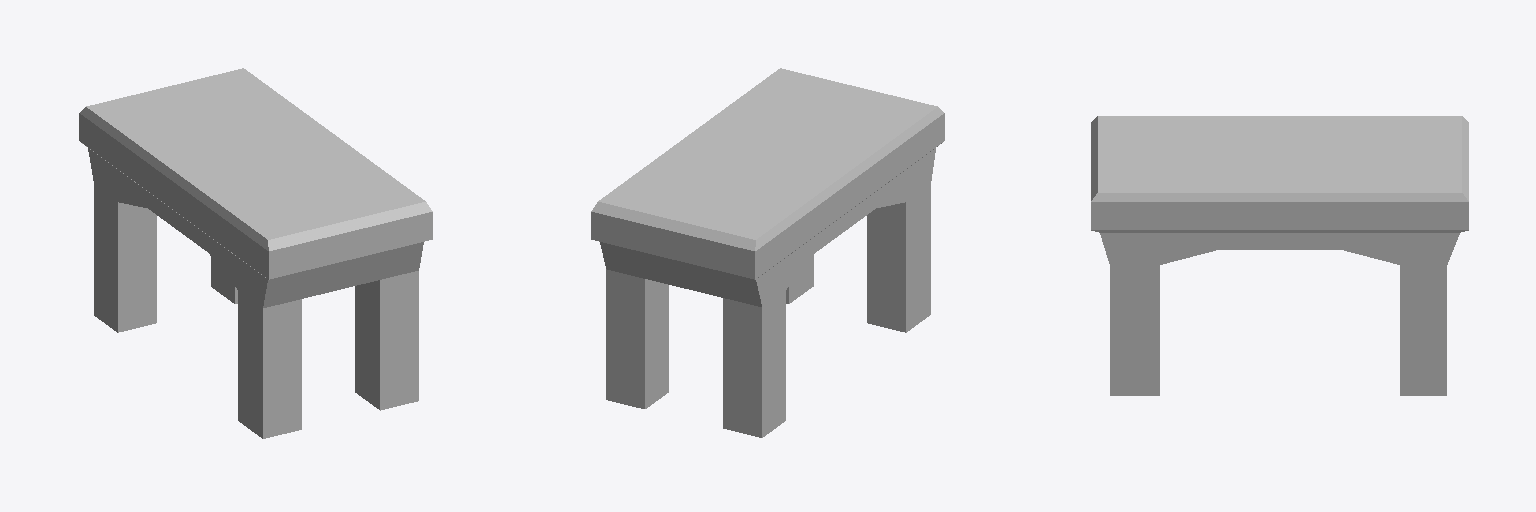
File: bench.obj
3 views of the same model, side by side, from view 1: azimuth 30°, elevation 25°; view 2: azimuth 150°, elevation 25°; view 3: azimuth 270°, elevation 25° (orthographic).
Visible parts, largest first — view 1: Cube; view 2: Cube; view 3: Cube.
Part boxes in pixels (left/top/right/bottom): Cube: left=79, top=68, right=432, bottom=438; Cube: left=591, top=68, right=944, bottom=437; Cube: left=1091, top=116, right=1468, bottom=395.
Size of the model in its own units: 1.05 by 1.25 by 2.1.